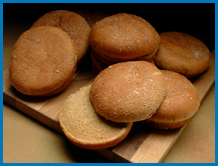hamburger_buns: (58, 60, 197, 146)
